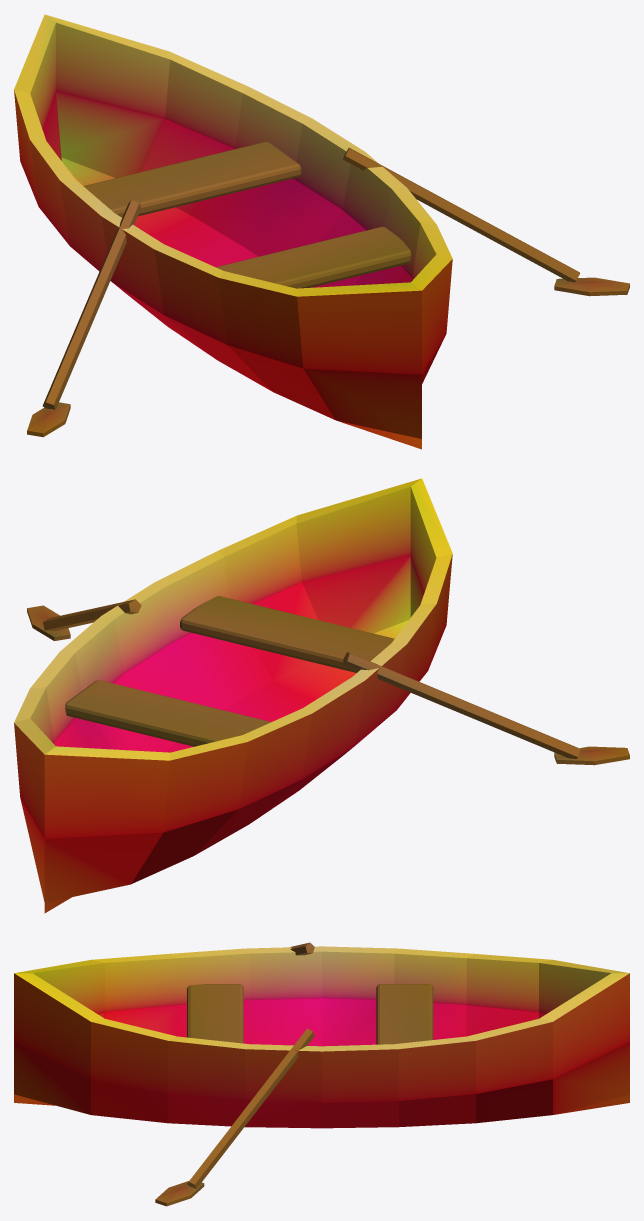
The model's file is Rowboat_01.fbx.
3 renders of one model, top to bottom at view 1: azimuth 30°, elevation 25°; view 2: azimuth 150°, elevation 25°; view 3: azimuth 270°, elevation 25°, orthographic. The views are drawn at different scales.
Parts seen in each view (by area): view 1: Rowboat_01; view 2: Rowboat_01; view 3: Rowboat_01.
Part boxes in pixels (left/top/right/bottom): Rowboat_01: left=14, top=14, right=629, bottom=449; Rowboat_01: left=14, top=478, right=629, bottom=913; Rowboat_01: left=14, top=942, right=629, bottom=1206.
Size of the model in its own units: 2.4 by 0.64 by 2.6.
